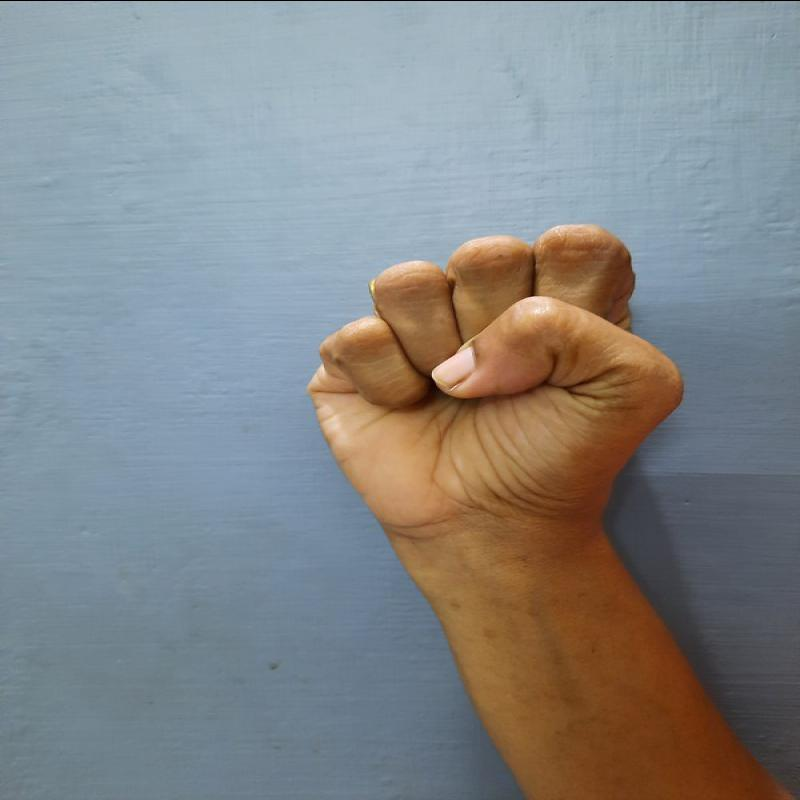Mushti: (275, 198, 700, 581)
